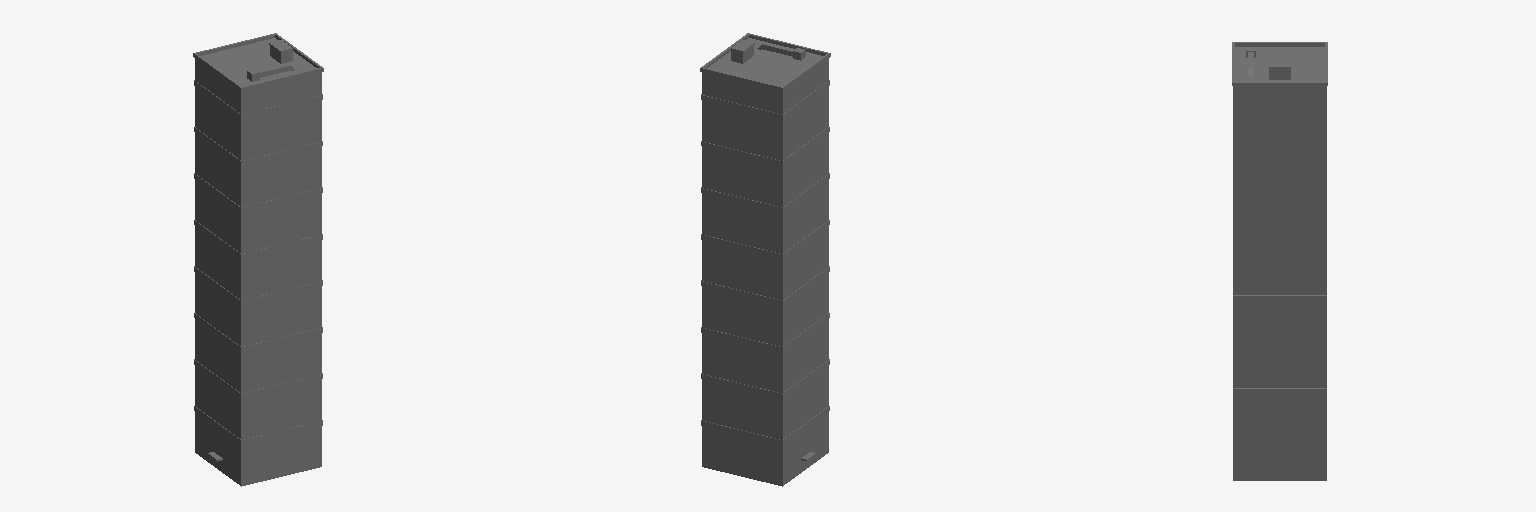
The model's file is Building1.obj.
3 views of the same model, side by side, from view 1: azimuth 30°, elevation 25°; view 2: azimuth 150°, elevation 25°; view 3: azimuth 270°, elevation 25° (orthographic).
Visible parts, largest first — view 1: Building1 PROPS; view 2: Building1 PROPS; view 3: Building1 PROPS.
Part boxes in pixels (x1,y1,x2,y2): Building1 PROPS: (193, 33, 323, 486); Building1 PROPS: (700, 33, 830, 486); Building1 PROPS: (1232, 42, 1327, 480).
Size of the model in its own units: 10.83 by 48.29 by 10.2.